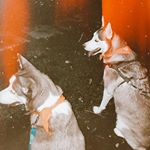puppy: (79, 13, 146, 137), (1, 48, 64, 150)
